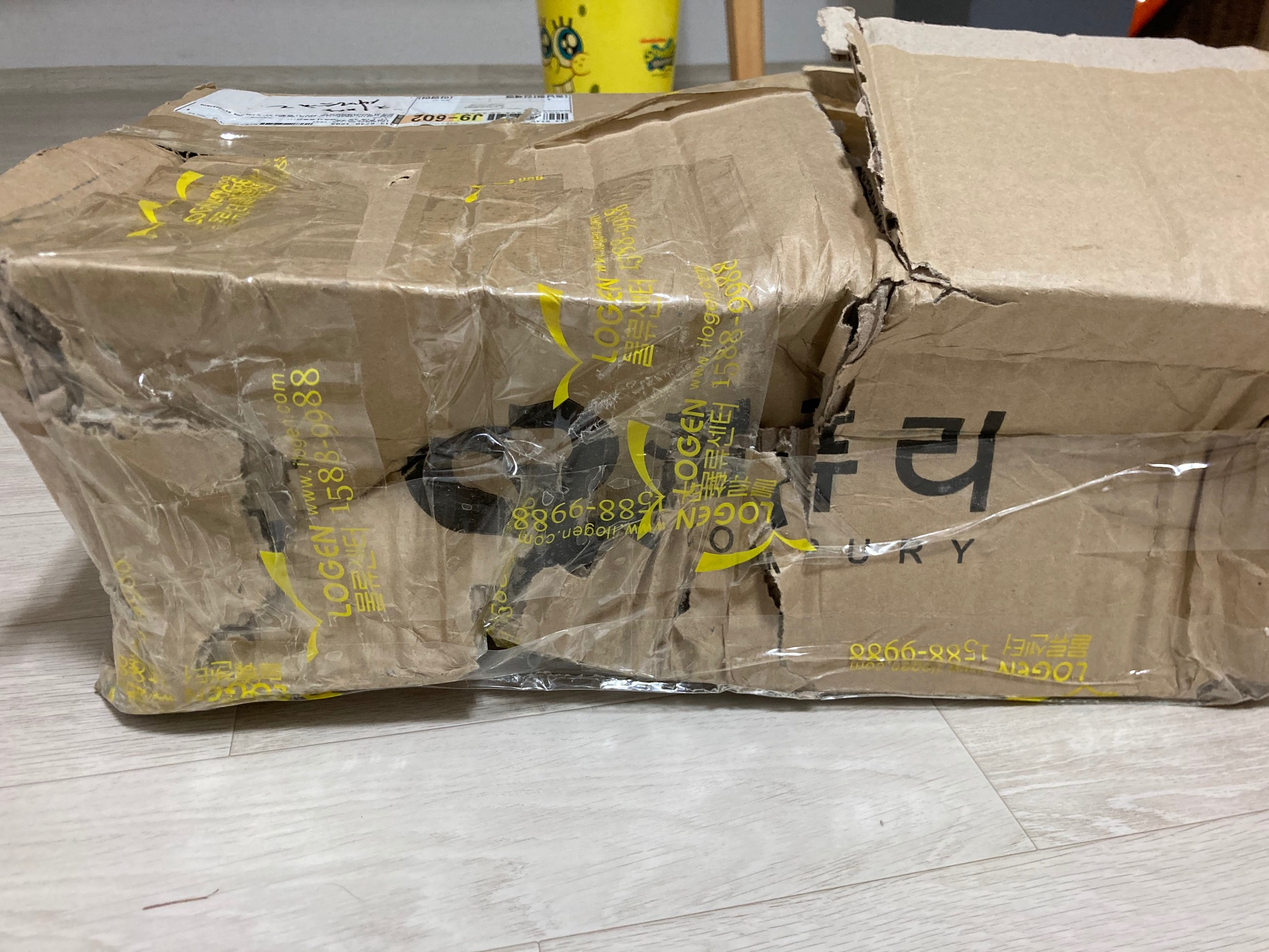damaged package: (18, 382, 803, 726), (751, 276, 913, 519), (808, 29, 905, 270)
